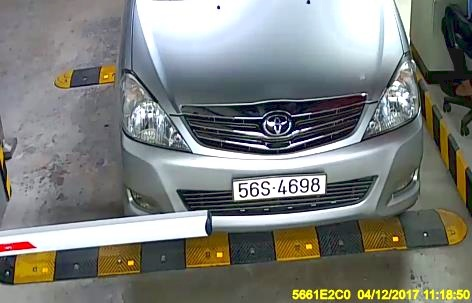plate: (232, 171, 329, 199)
